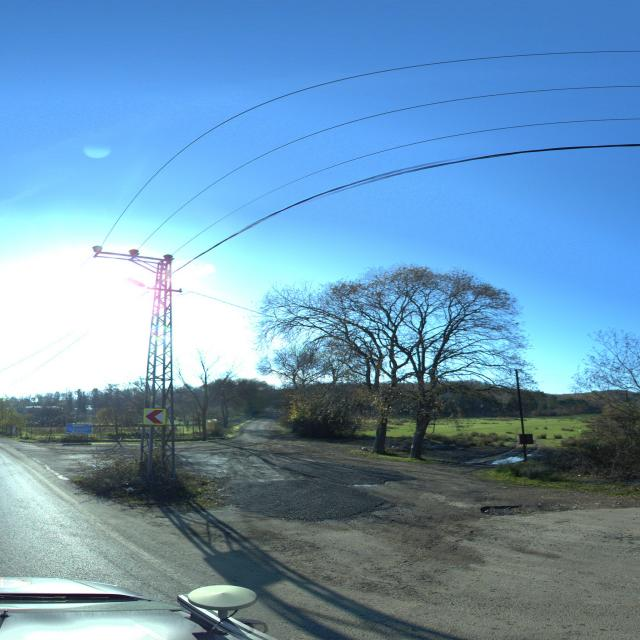Utility Pole Information Plate: (151, 396, 153, 402)
